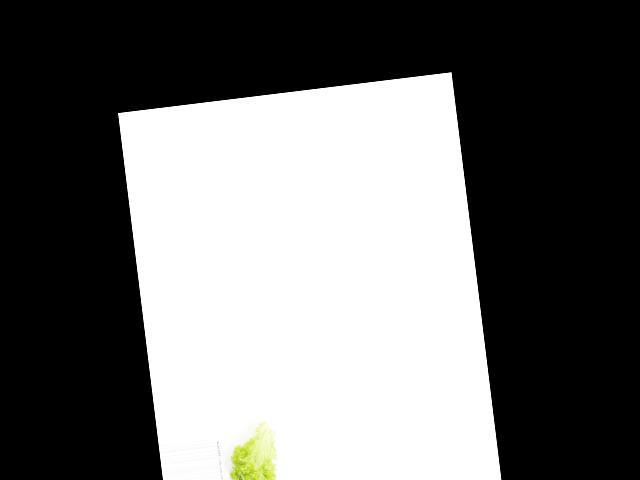lettuce: (224, 421, 283, 480)
